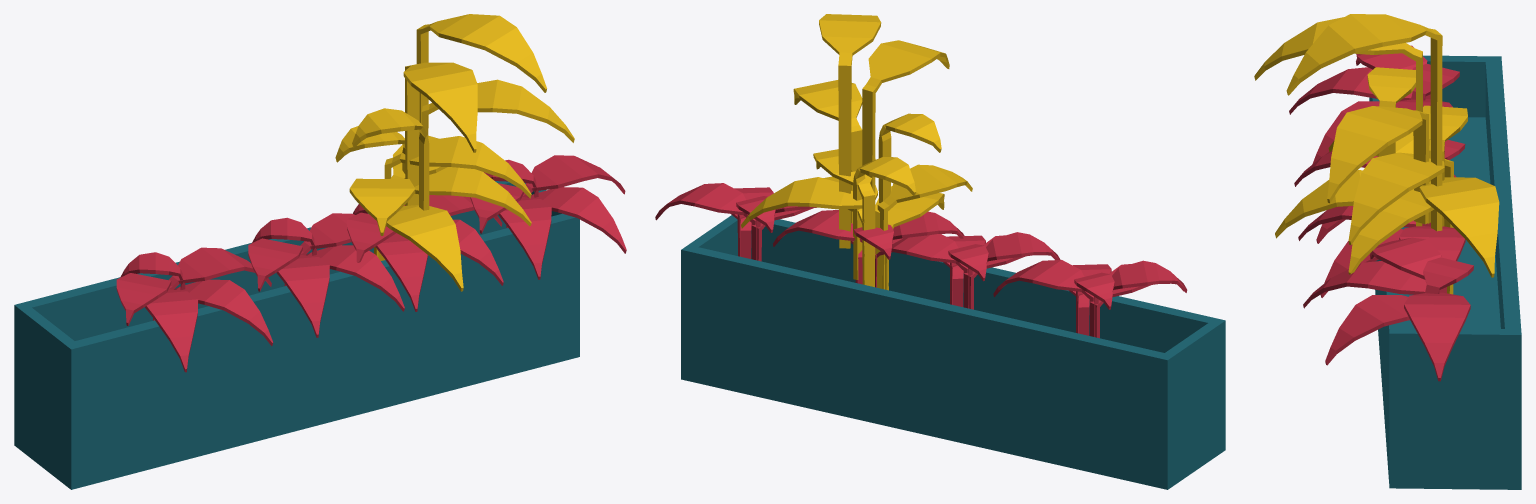
Rendered from macetota2.fbx.
The picture shows the model from 3 angles, left to right: view 1: azimuth 30°, elevation 25°; view 2: azimuth 150°, elevation 25°; view 3: azimuth 270°, elevation 25°; orthographic projection. The views are drawn at different scales.
Parts seen in each view (by area): view 1: pCube5.001; view 2: pCube5.001; view 3: pCube5.001.
Part boxes in pixels (left/top/right/bottom): pCube5.001: left=14, top=14, right=626, bottom=489; pCube5.001: left=655, top=14, right=1225, bottom=489; pCube5.001: left=1254, top=14, right=1521, bottom=489.
Bounding box in the file's own units: 240 × 142 × 85.96.
